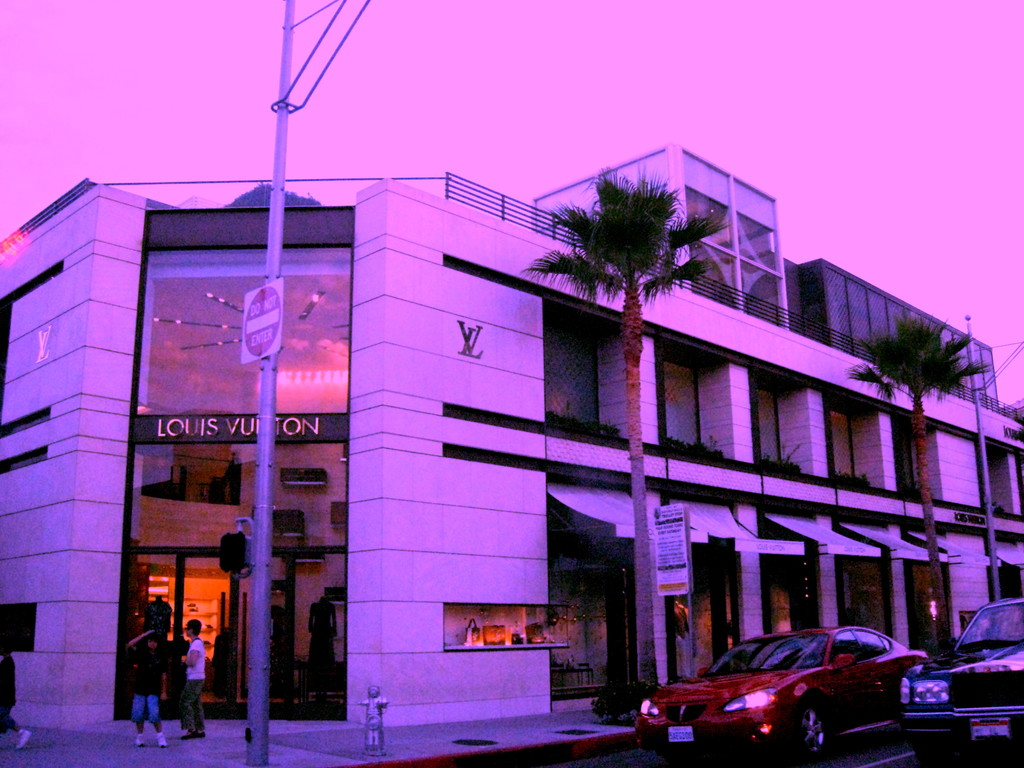Car: (631, 621, 937, 765), (897, 602, 1023, 767)
